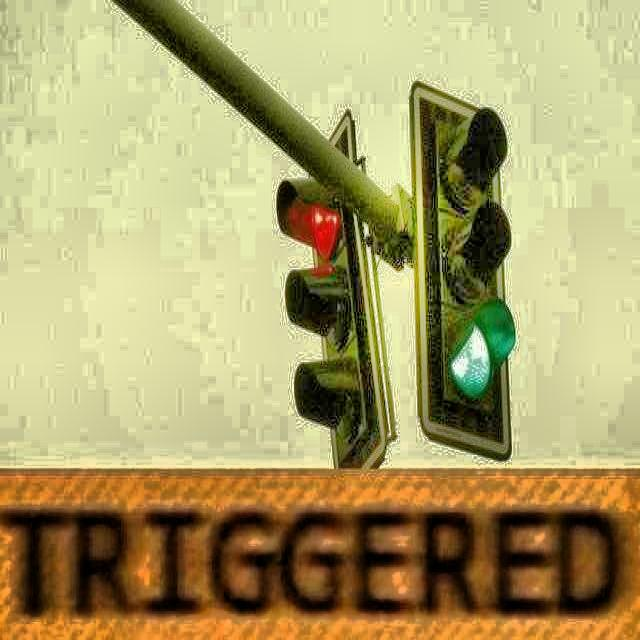green: (410, 91, 512, 436)
red: (268, 165, 387, 437)
